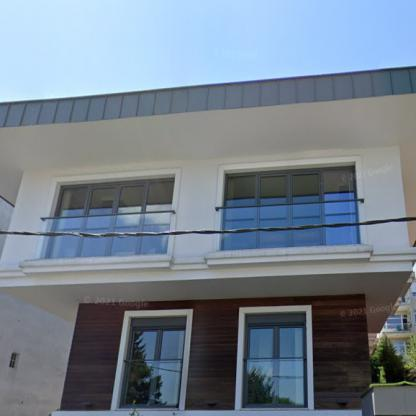window: (220, 166, 358, 247), (45, 177, 175, 255), (244, 326, 306, 406), (123, 329, 185, 408), (383, 314, 409, 328)
